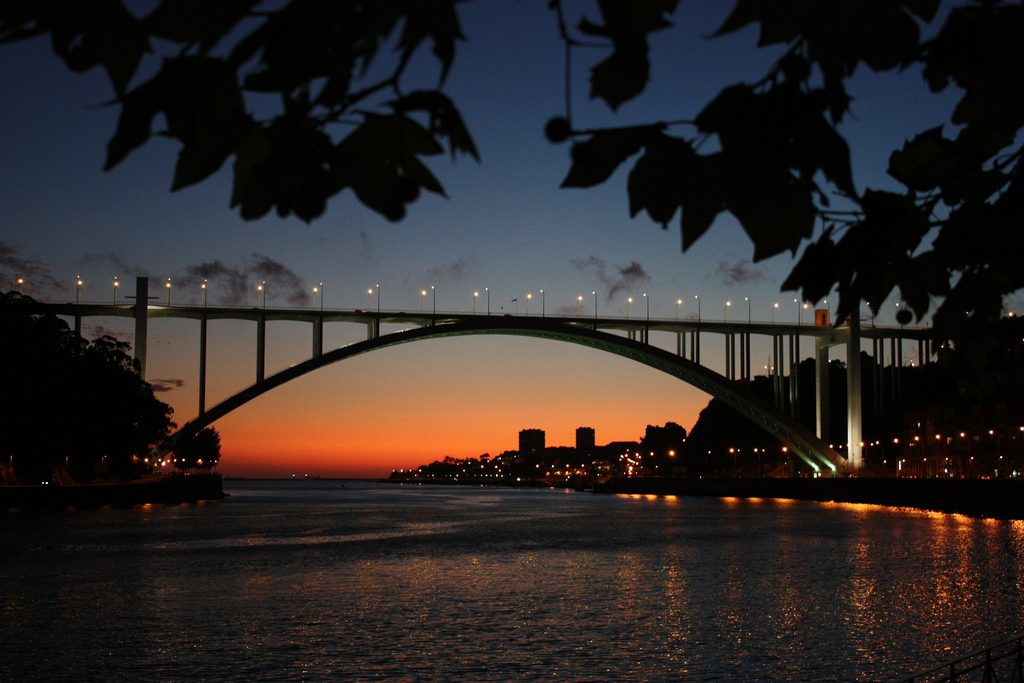arrabida: (0, 273, 1023, 478)
